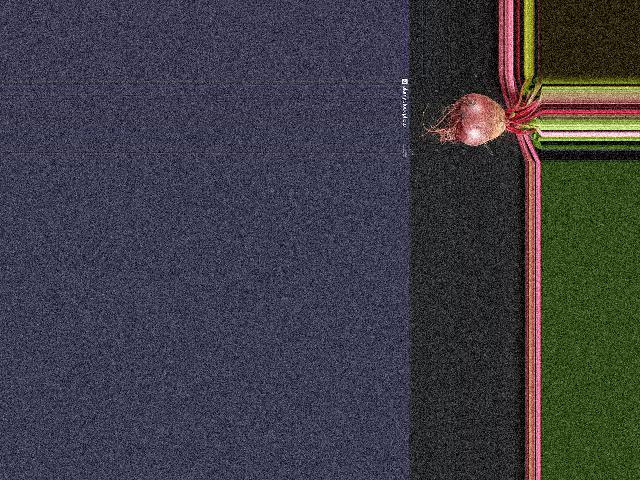beet: (416, 75, 541, 146)
